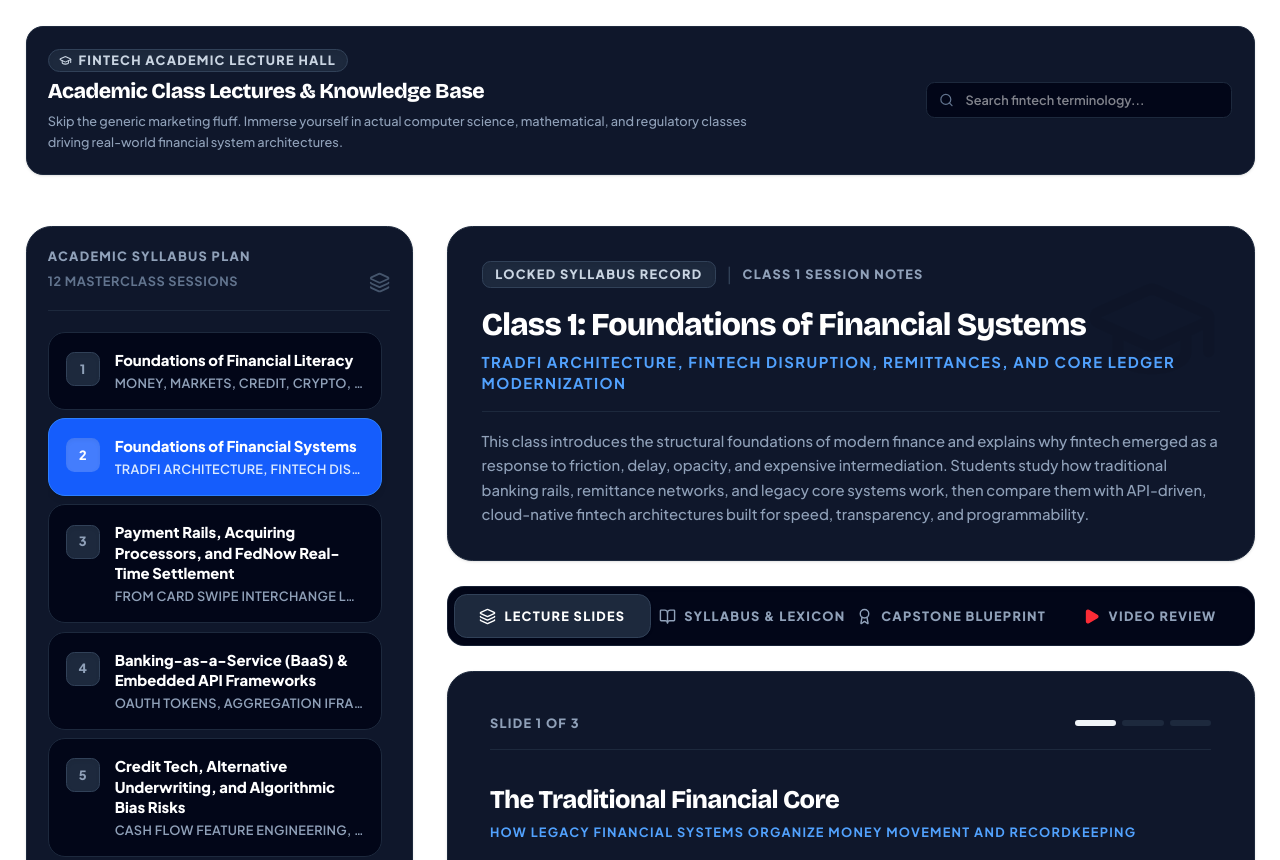
Test: KnowledgeBase › switches to capstone tab
The width and height of the screenshot is (1280, 860).
Click the button "Capstone Blueprint": (951, 616) [854, 594, 1048, 638]
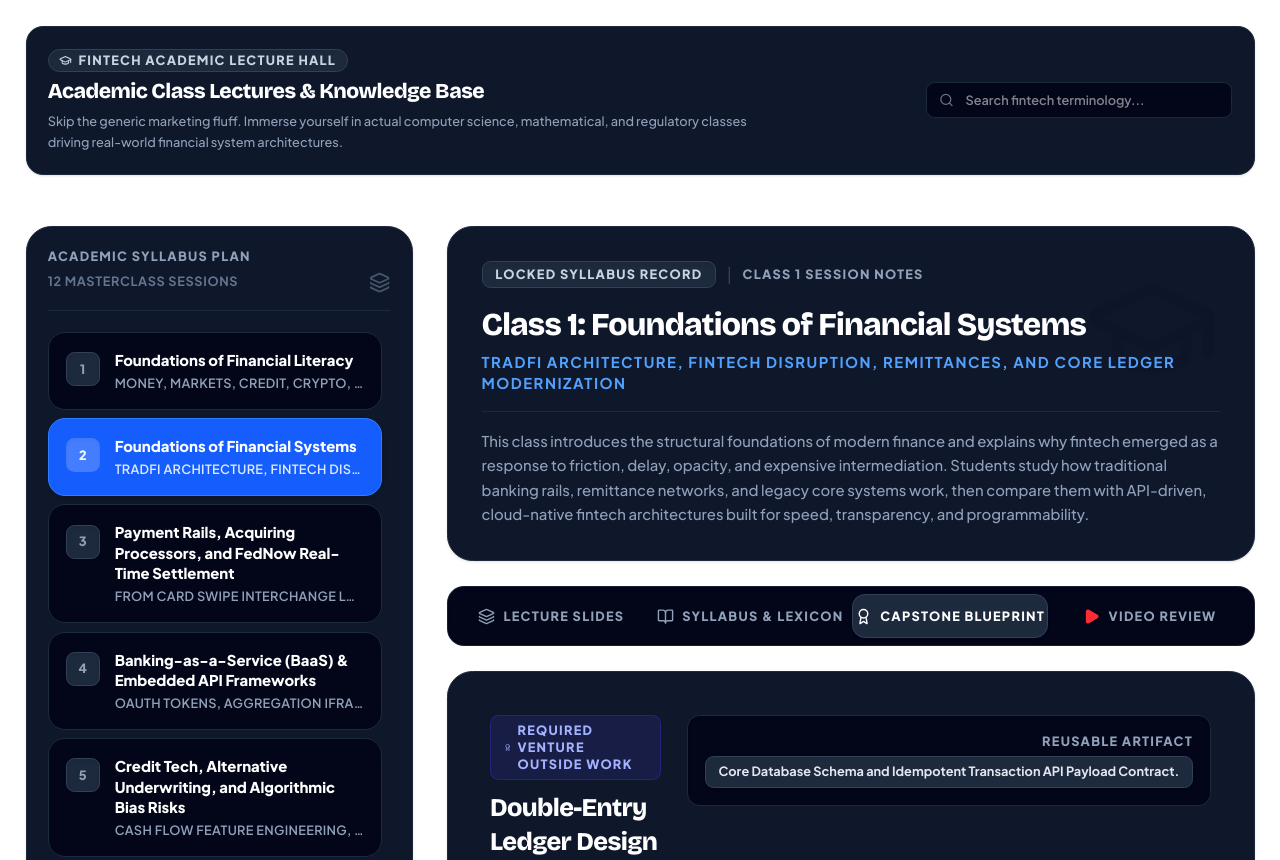
Now the text "REQUIRED VENTURE OUTSIDE WORK" is shown, box [517, 722, 648, 773]
